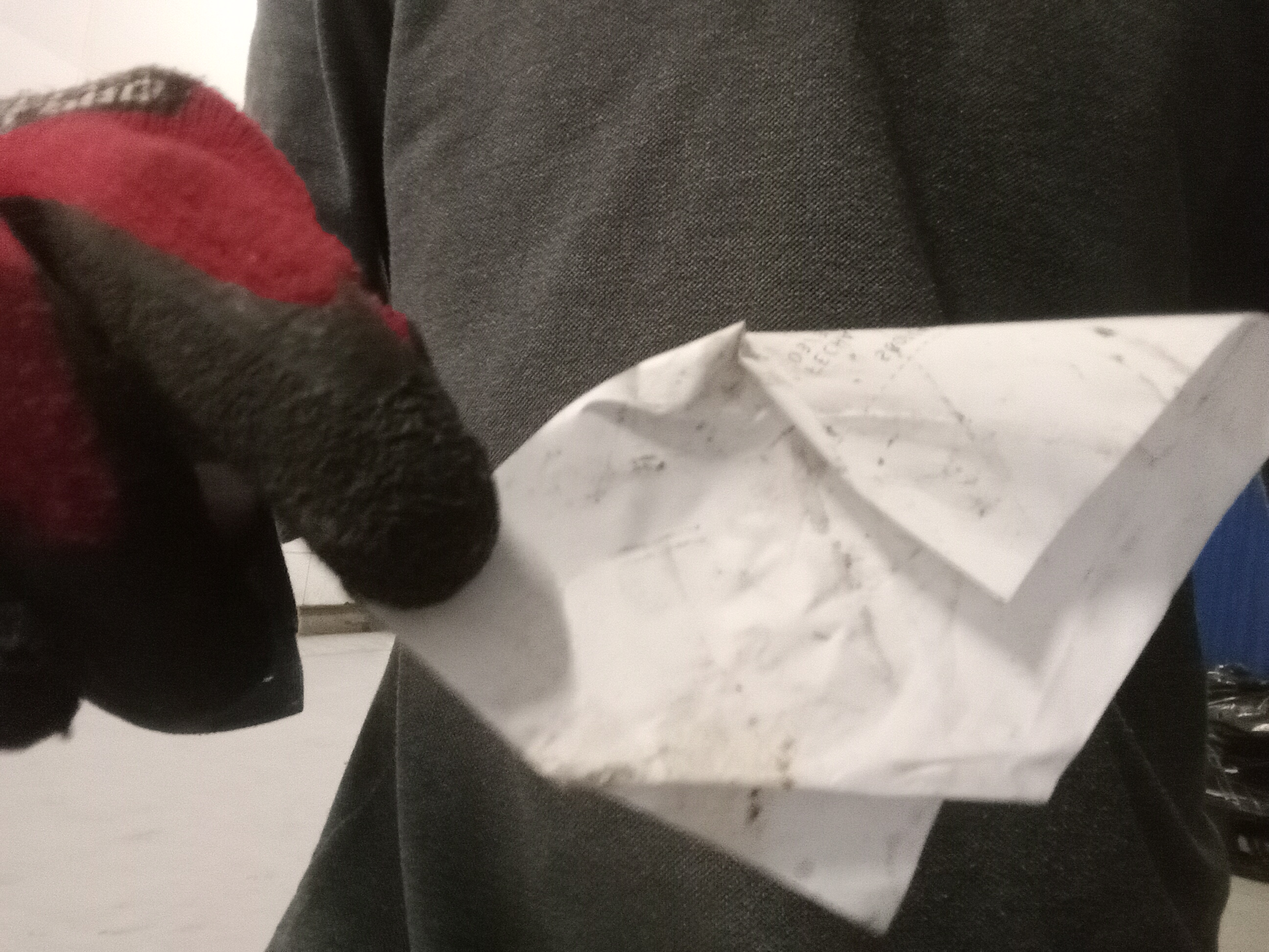Papel: (381, 311, 1266, 939)
